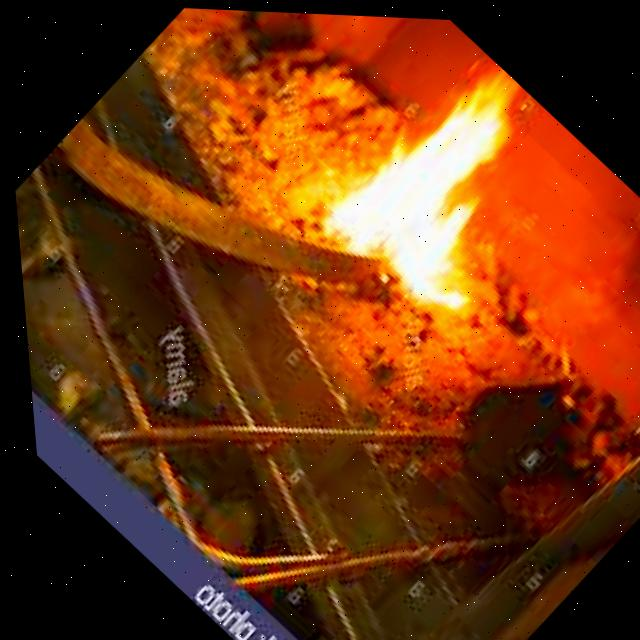Fire: (265, 17, 615, 359)
